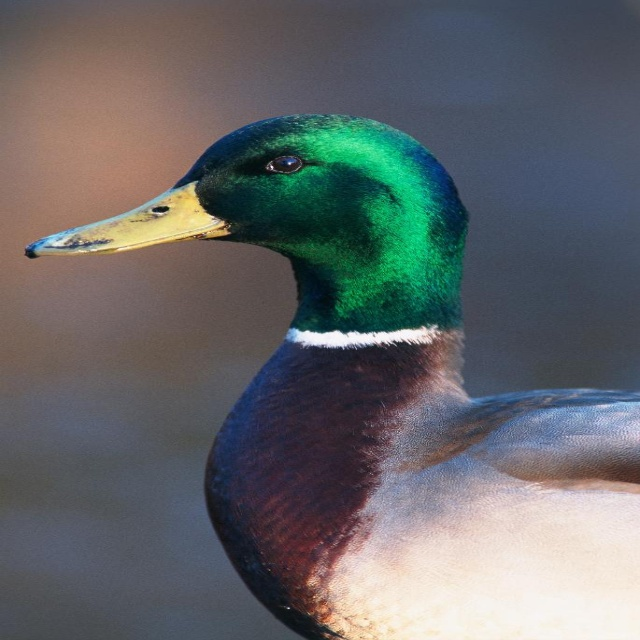Duck: (29, 131, 640, 633)
